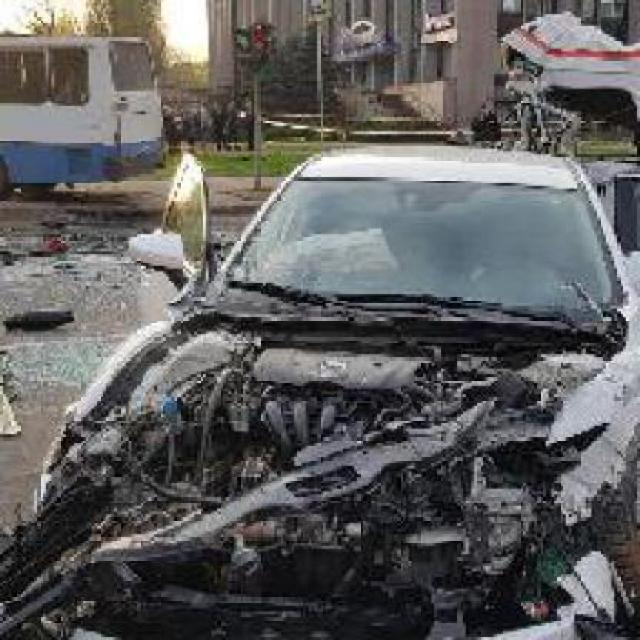damaged-hood: (120, 314, 600, 440)
